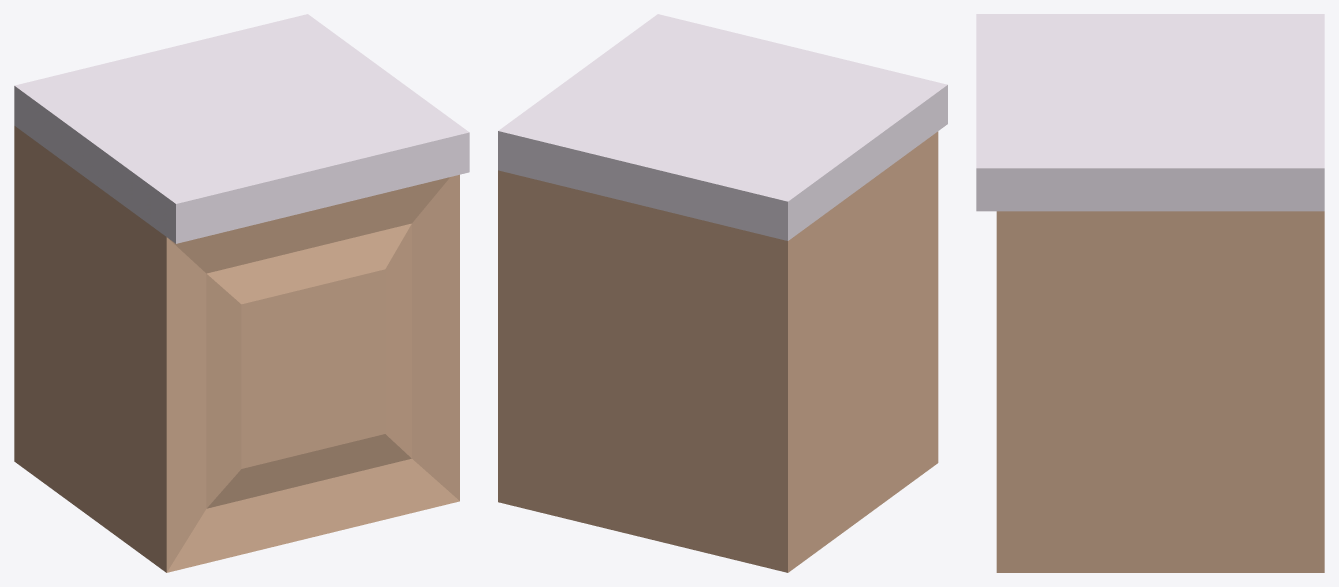
Rendered from altkısım.fbx.
3 renders of one model, left to right at view 1: azimuth 30°, elevation 25°; view 2: azimuth 150°, elevation 25°; view 3: azimuth 270°, elevation 25°, orthographic. The views are drawn at different scales.
Parts seen in each view (by area): view 1: Cube.002, Cube.001; view 2: Cube.002, Cube.001; view 3: Cube.002, Cube.001.
Part boxes in pixels (bbox=[...]): Cube.002: bbox=[14, 126, 459, 572]; Cube.001: bbox=[14, 14, 469, 243]; Cube.002: bbox=[498, 131, 938, 572]; Cube.001: bbox=[498, 14, 947, 240]; Cube.002: bbox=[996, 211, 1324, 572]; Cube.001: bbox=[976, 14, 1324, 211].
Size of the model in its own units: 111 by 136 by 106.
